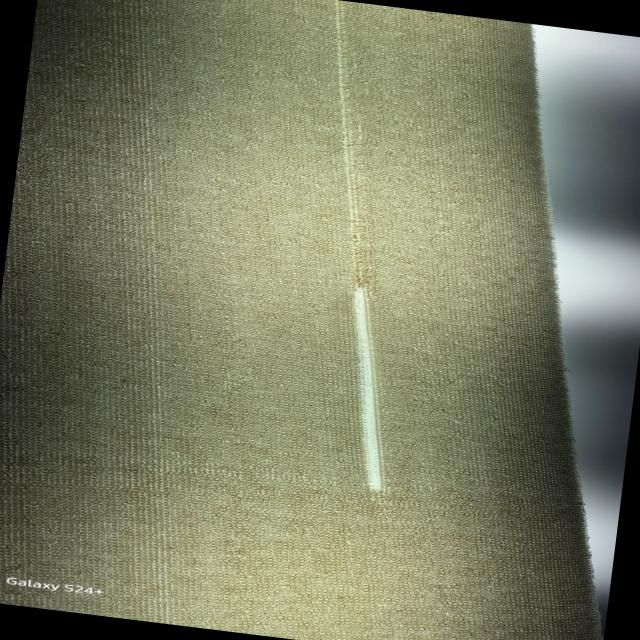Warp_Weft: (266, 0, 461, 499)
